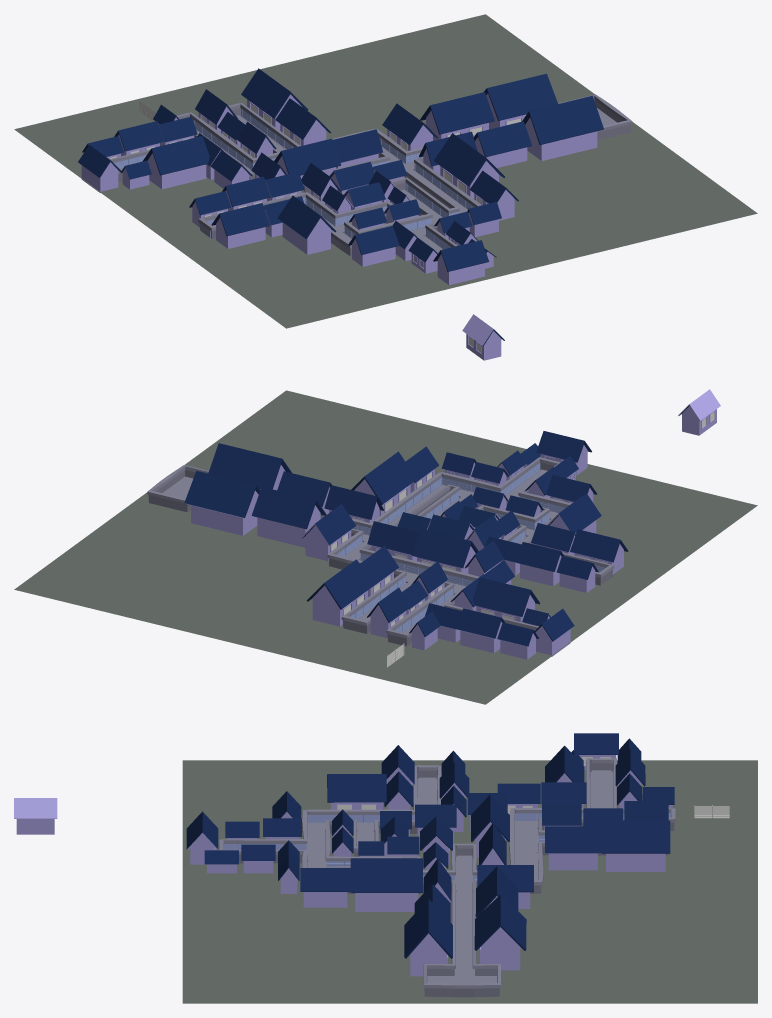
Rendered from way2home.fbx.
3 renders of one model, top to bottom at view 1: azimuth 30°, elevation 25°; view 2: azimuth 150°, elevation 25°; view 3: azimuth 270°, elevation 25°, orthographic. The views are drawn at different scales.
Visible parts, largest first — view 1: floor, Home, Cube.001, Wall, window; view 2: floor, Home, Cube.001, Wall, window; view 3: floor, Home, Cube.001, Wall, Plane.015.
Boxes of the visible parts, x1,y1,x2,y2 form: floor: (14,14,757,328); Home: (78,68,603,360); Cube.001: (110,94,632,256); Wall: (114,108,474,249); window: (110,104,520,216); floor: (14,390,757,704); Home: (184,389,720,659); Cube.001: (147,457,614,646); Wall: (320,463,612,632); window: (331,472,606,626); floor: (182,760,757,1003); Home: (14,733,674,976); Cube.001: (219,758,675,997); Wall: (224,813,670,975); Plane.015: (694,805,729,818).
Bounding box in the file's own units: 57376 × 6331 × 73867.
